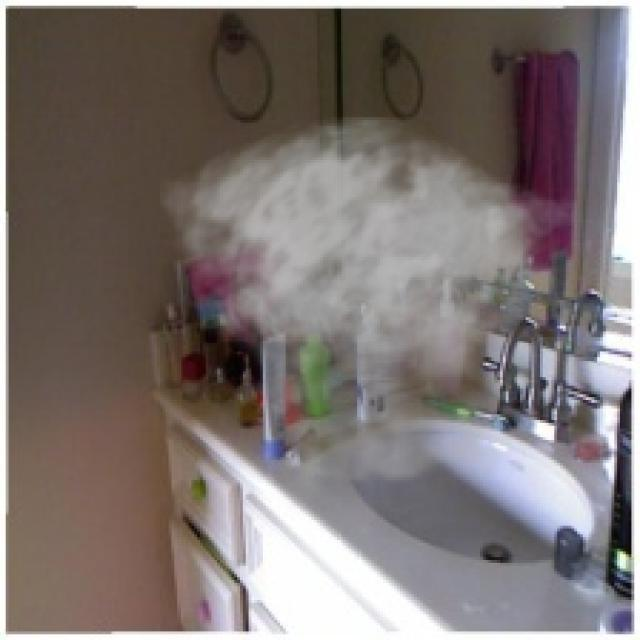Smoke: (160, 114, 577, 520)
